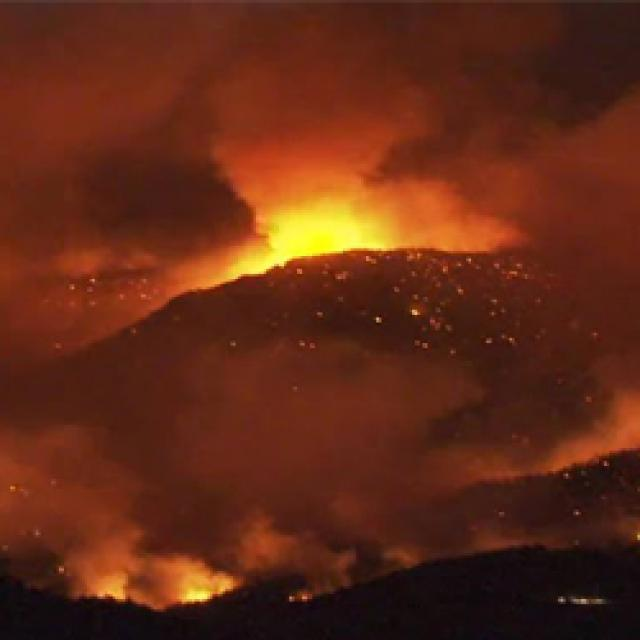Fire: (211, 164, 501, 336), (43, 512, 289, 626), (39, 262, 162, 319), (361, 236, 448, 315), (269, 323, 350, 374), (469, 229, 534, 291), (550, 584, 632, 626), (548, 304, 613, 346)
Smoke: (0, 0, 640, 221), (210, 334, 640, 500), (0, 171, 163, 550), (336, 513, 640, 581)
